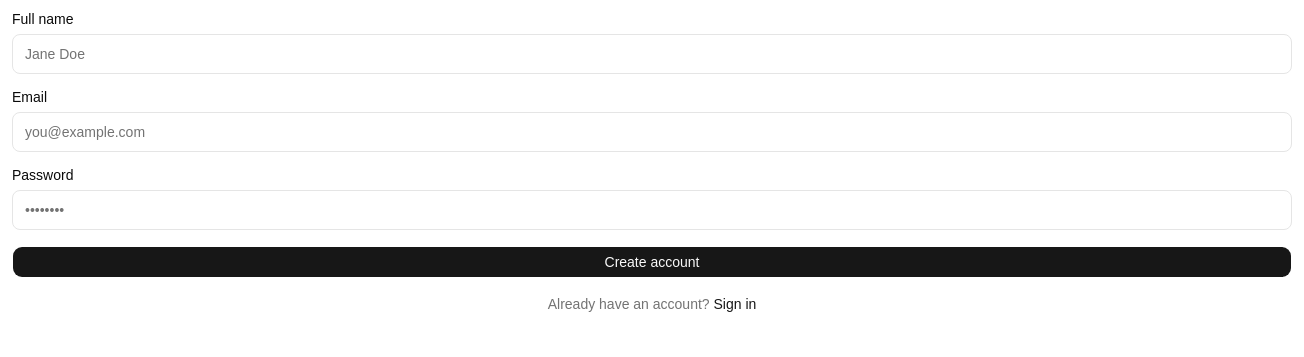
Test case: RegisterForm › validates password min 8 chars
Type "Test User" into the field labelled "Full name". click: (652, 54)
box: [12,34,1292,74]
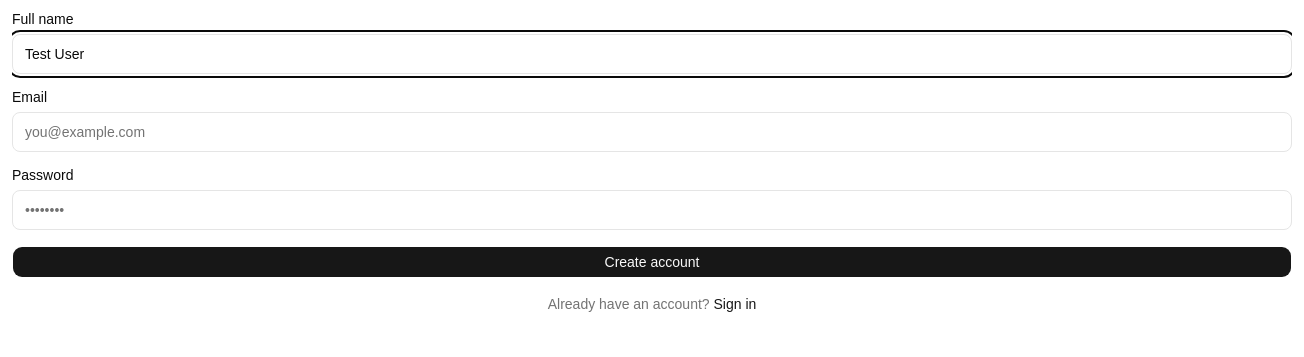
Type "test@test.com" into the field labelled "Email". click: (652, 132)
box: [12,112,1292,152]
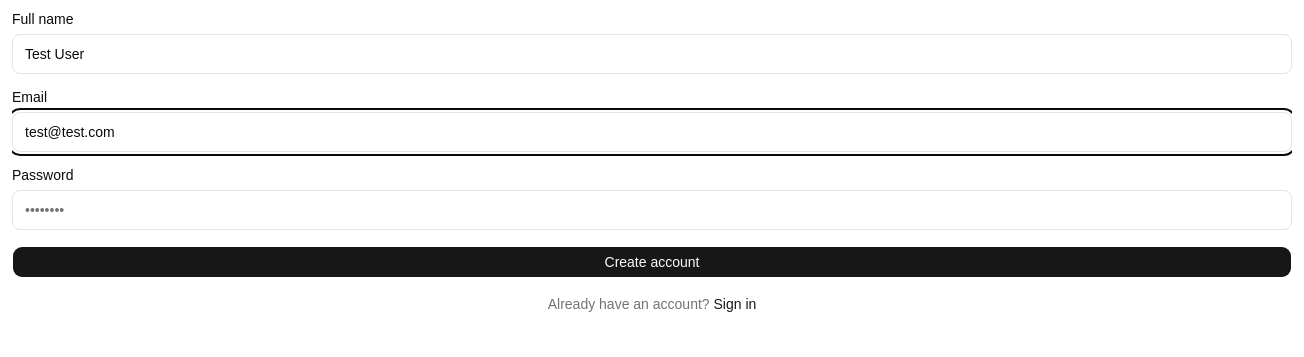
Type "short" into the password field labelled "Password". click: (652, 210)
box: [12,190,1292,230]
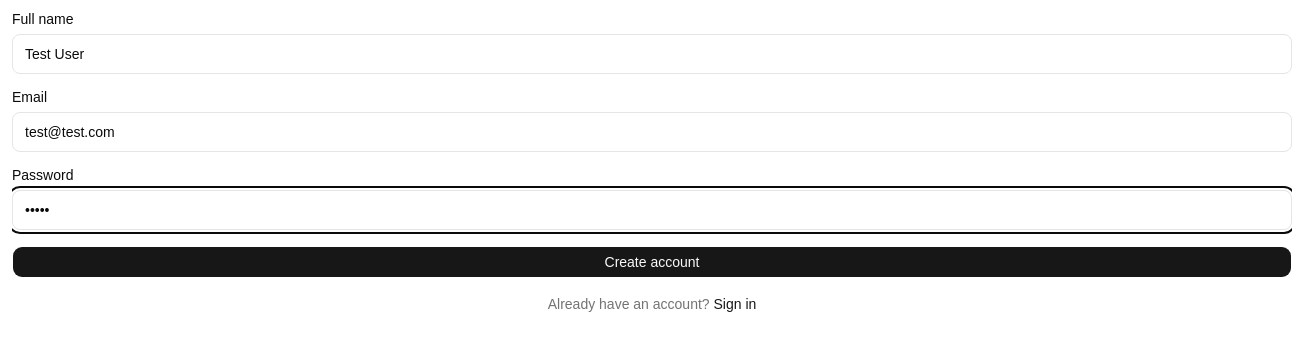
Click the button "Create account". click: (652, 262)
box: [12,246,1292,278]
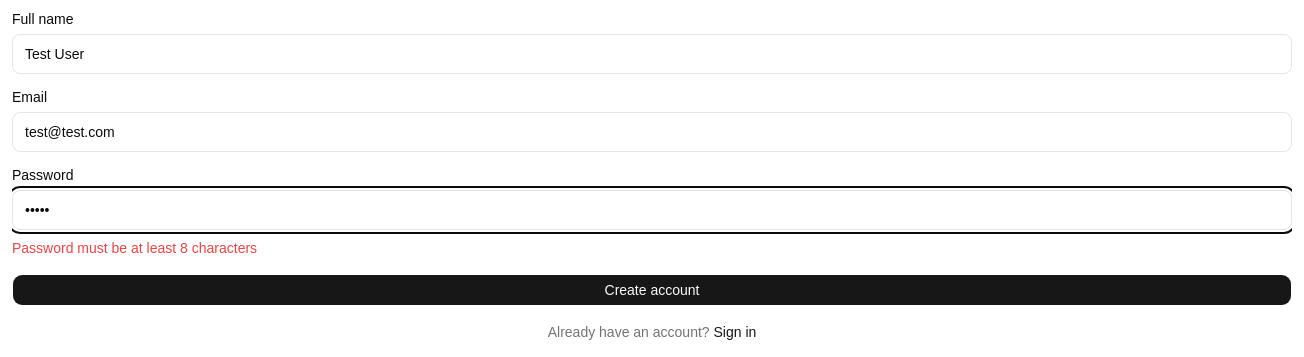
Expected: the text "Password must be at least 8 characters" is shown, [12,240,257,256]
